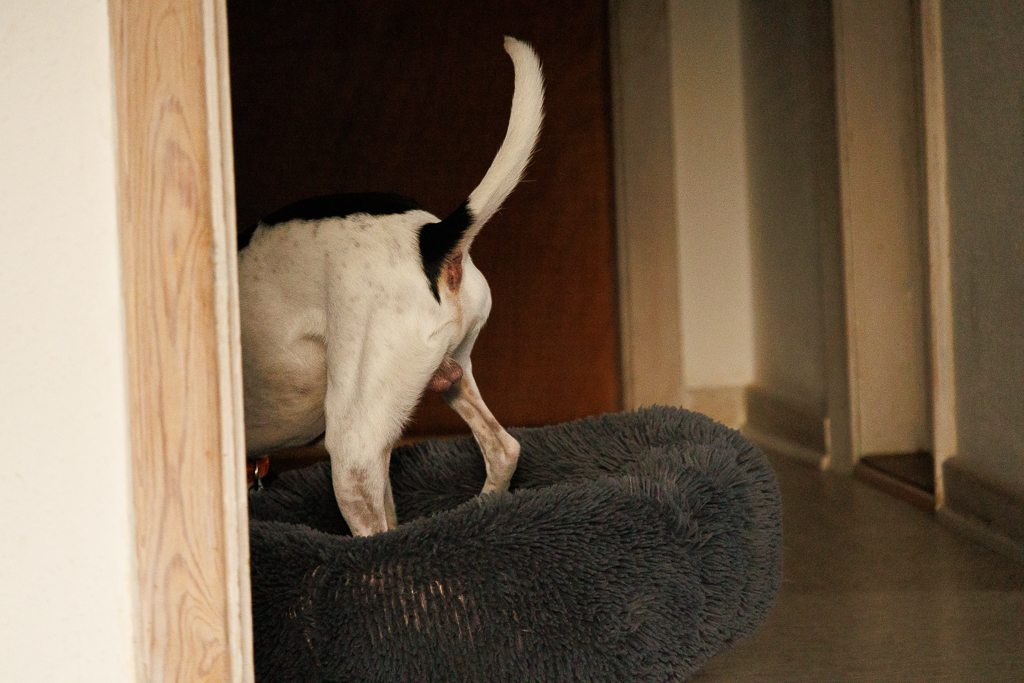Dog: (221, 27, 572, 564)
